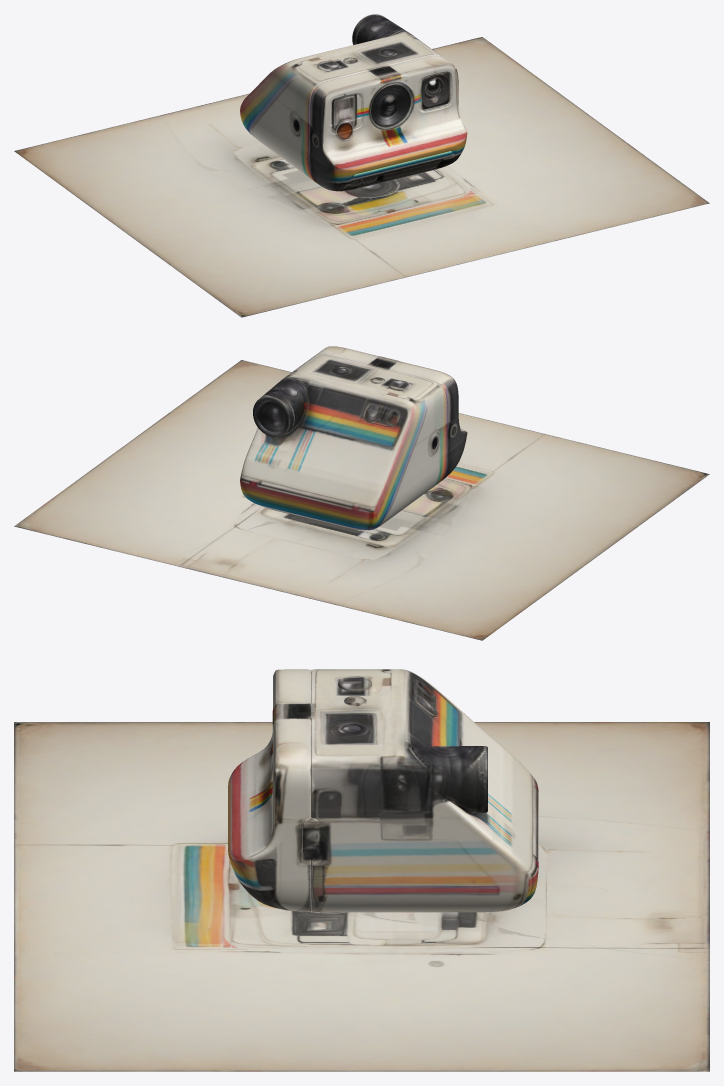
File: polaroid_go_copy_0326163610_texture.glb
3 renders of one model, top to bottom at view 1: azimuth 30°, elevation 25°; view 2: azimuth 150°, elevation 25°; view 3: azimuth 270°, elevation 25°, orthographic. The views are drawn at different scales.
Bounding box in the file's own units: 2 × 0.4996 × 1.68.
Materials: 1 (1 with a texture image).
